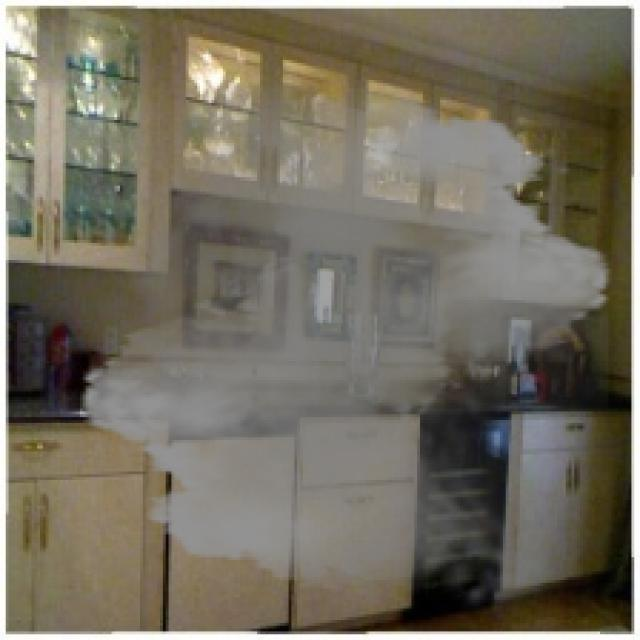Smoke: (62, 65, 628, 626)
